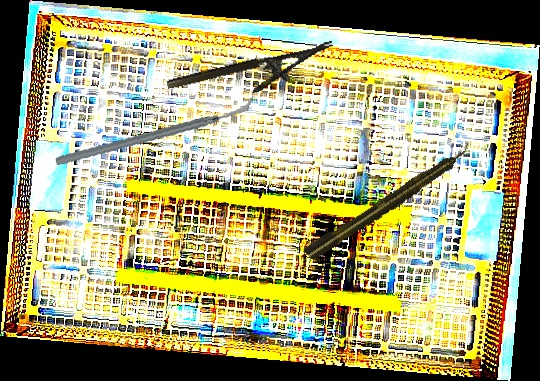Chopper: (54, 70, 257, 192)
Handpiece: (301, 141, 477, 263)
Needle Holder: (165, 40, 340, 112)
